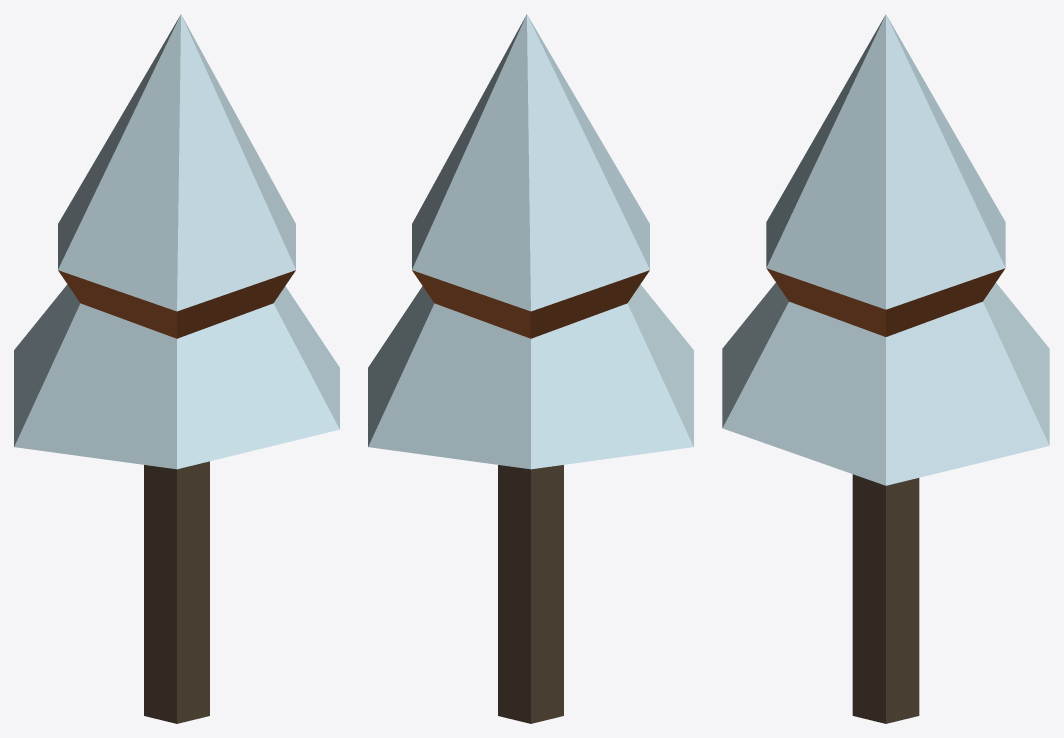
Rendered from SM_Env_Generic_Tree_01_Snow.fbx.
3 renders of one model, left to right at view 1: azimuth 30°, elevation 25°; view 2: azimuth 150°, elevation 25°; view 3: azimuth 270°, elevation 25°, orthographic.
Visible parts, largest first — view 1: SM_Env_Generic_Tree_01_Snow; view 2: SM_Env_Generic_Tree_01_Snow; view 3: SM_Env_Generic_Tree_01_Snow.
Boxes of the visible parts, <box> form: SM_Env_Generic_Tree_01_Snow: <box>14,14,339,723</box>; SM_Env_Generic_Tree_01_Snow: <box>368,14,693,723</box>; SM_Env_Generic_Tree_01_Snow: <box>722,14,1049,723</box>.
Bounding box in the file's own units: 54.98 × 112 × 47.61.
1 material, 1 textured.
